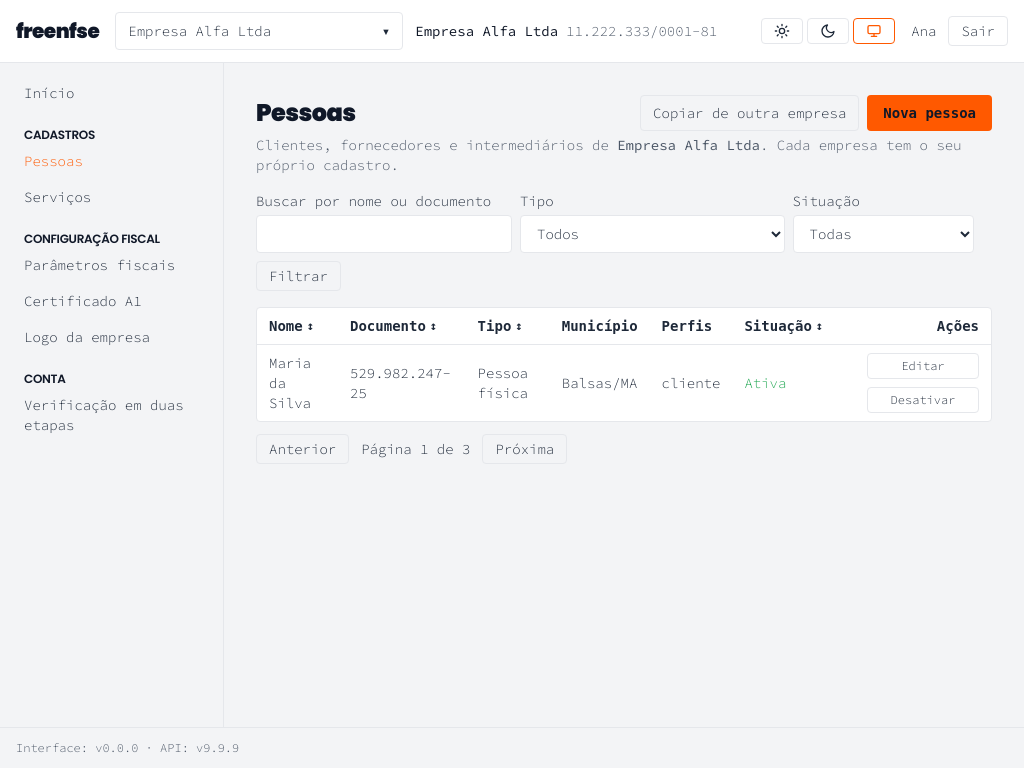
Test case: Pessoas: lista › pagina quando há mais de 25 pessoas
The width and height of the screenshot is (1024, 768).
Expected: the text "Página 1 de 3" is shown, [361,439,470,459]
Click the button "Próxima": click(525, 449) [482,434,567,464]
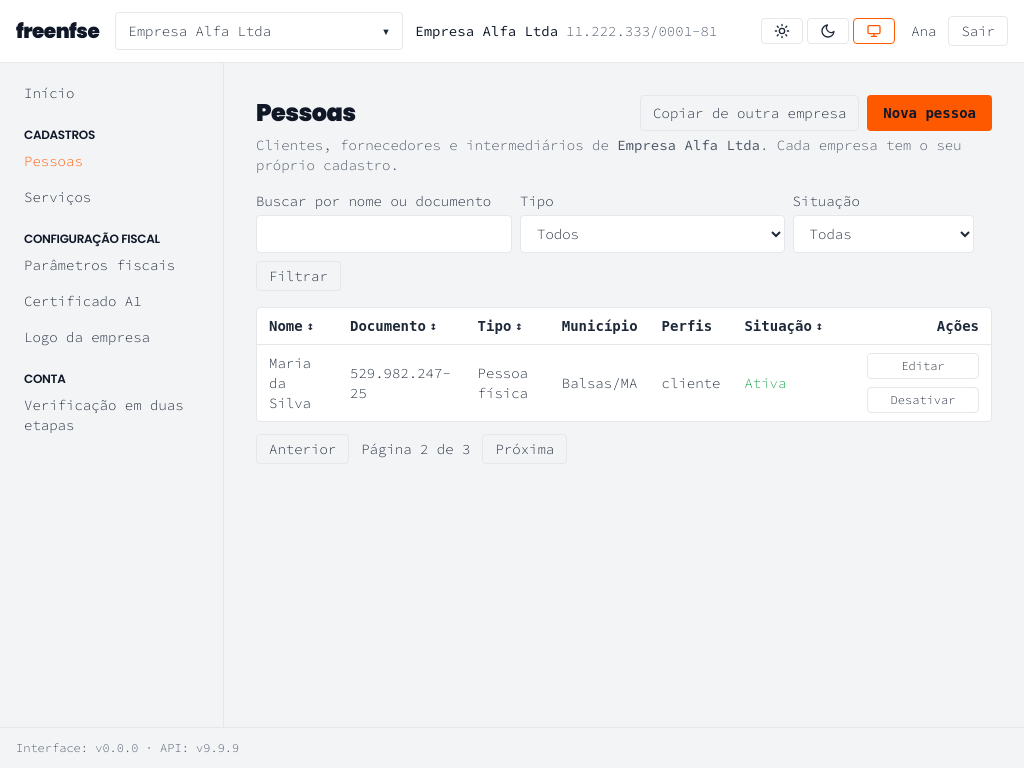
Now the text "Página 2 de 3" is shown, box [361,439,470,459]
